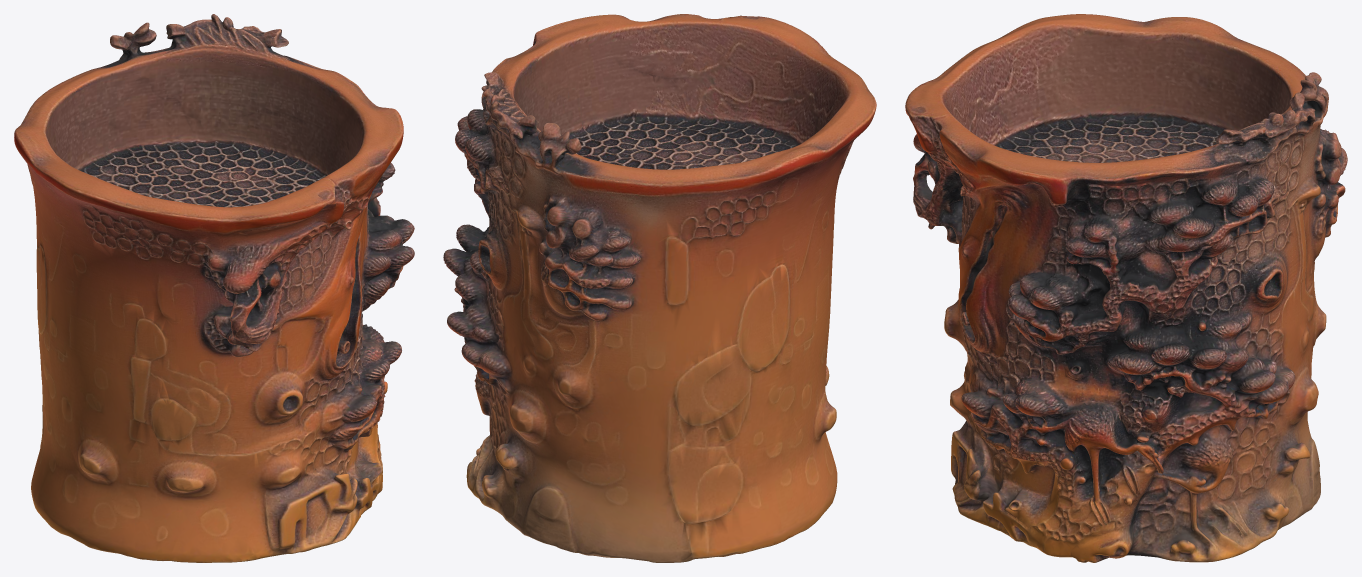
File: bamboo-finished.web.glb
3 renders of one model, left to right at view 1: azimuth 30°, elevation 25°; view 2: azimuth 150°, elevation 25°; view 3: azimuth 270°, elevation 25°, orthographic. The views are drawn at different scales.
Visible parts, largest first — view 1: tripo_node_7672be8f-bf84-4386-a5af-1a9109cab1ce; view 2: tripo_node_7672be8f-bf84-4386-a5af-1a9109cab1ce; view 3: tripo_node_7672be8f-bf84-4386-a5af-1a9109cab1ce.
Boxes of the visible parts, x1,y1,x2,y2 form: tripo_node_7672be8f-bf84-4386-a5af-1a9109cab1ce: (14,14,414,562); tripo_node_7672be8f-bf84-4386-a5af-1a9109cab1ce: (443,14,876,562); tripo_node_7672be8f-bf84-4386-a5af-1a9109cab1ce: (905,14,1347,562).
Size of the model in its own units: 0.8984 by 0.9995 by 0.9443.
Materials: 1 (1 with a texture image).
